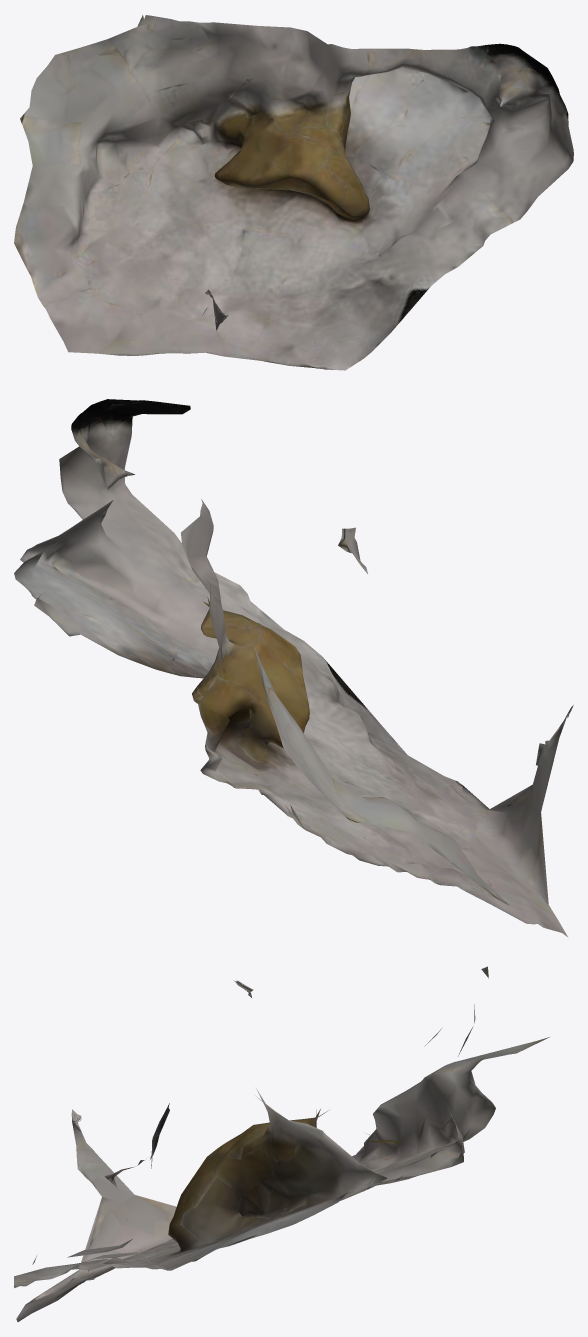
Rendered from hall.glb.
The picture shows the model from 3 angles, top to bottom: view 1: azimuth 30°, elevation 25°; view 2: azimuth 150°, elevation 25°; view 3: azimuth 270°, elevation 25°; orthographic projection. The views are drawn at different scales.
Size of the model in its own units: 1.39 by 0.7607 by 1.15.
Materials: 1 (1 with a texture image).
